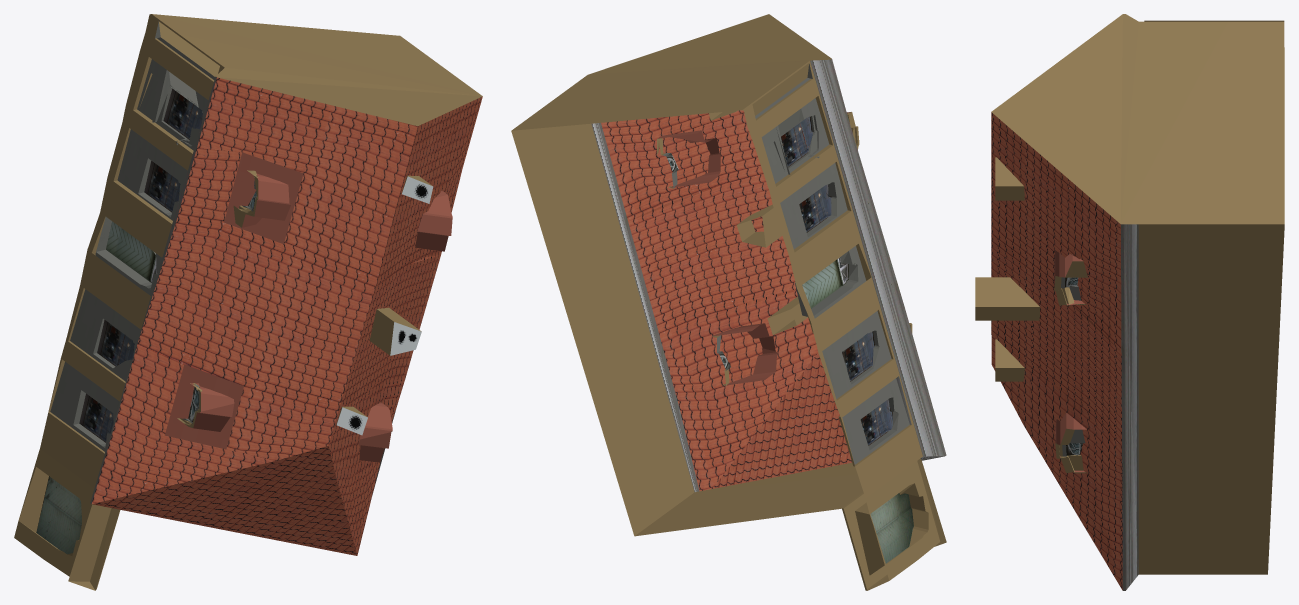
File: Pikk_70_2-origo.obj
The picture shows the model from 3 angles, left to right: view 1: azimuth 30°, elevation 25°; view 2: azimuth 150°, elevation 25°; view 3: azimuth 270°, elevation 25°; orthographic projection. The views are drawn at different scales.
Visible parts, largest first — view 1: Pikk_70_2; view 2: Pikk_70_2; view 3: Pikk_70_2.
Part boxes in pixels (x1,y1,x2,y2): Pikk_70_2: (14,14,482,590); Pikk_70_2: (511,14,946,590); Pikk_70_2: (975,14,1284,590).
Bounding box in the file's own units: 12.69 × 15.5 × 8.54.
